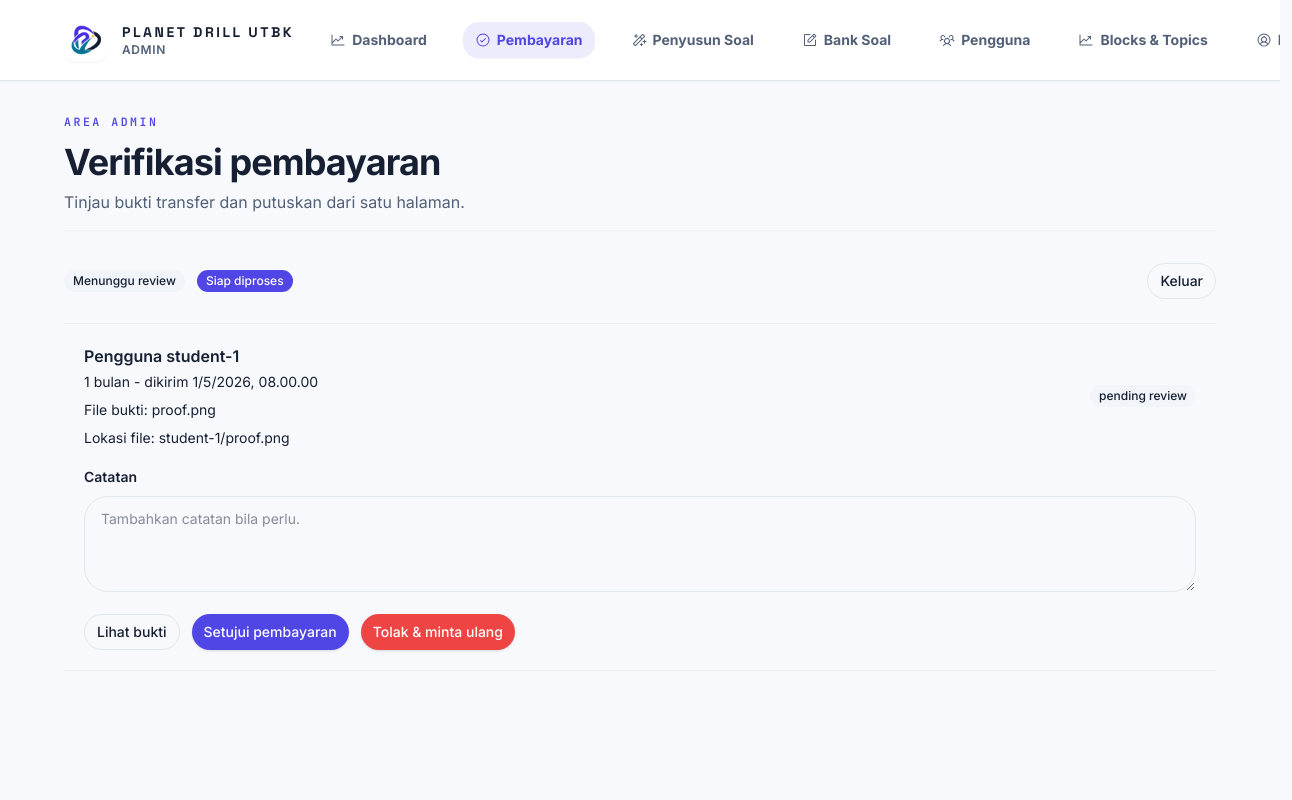
Test case: Payments page › keeps the loaded queue visible when opening a proof preview fails
Click the button "Lihat bukti" at [132, 632], box [84,614,180,650]
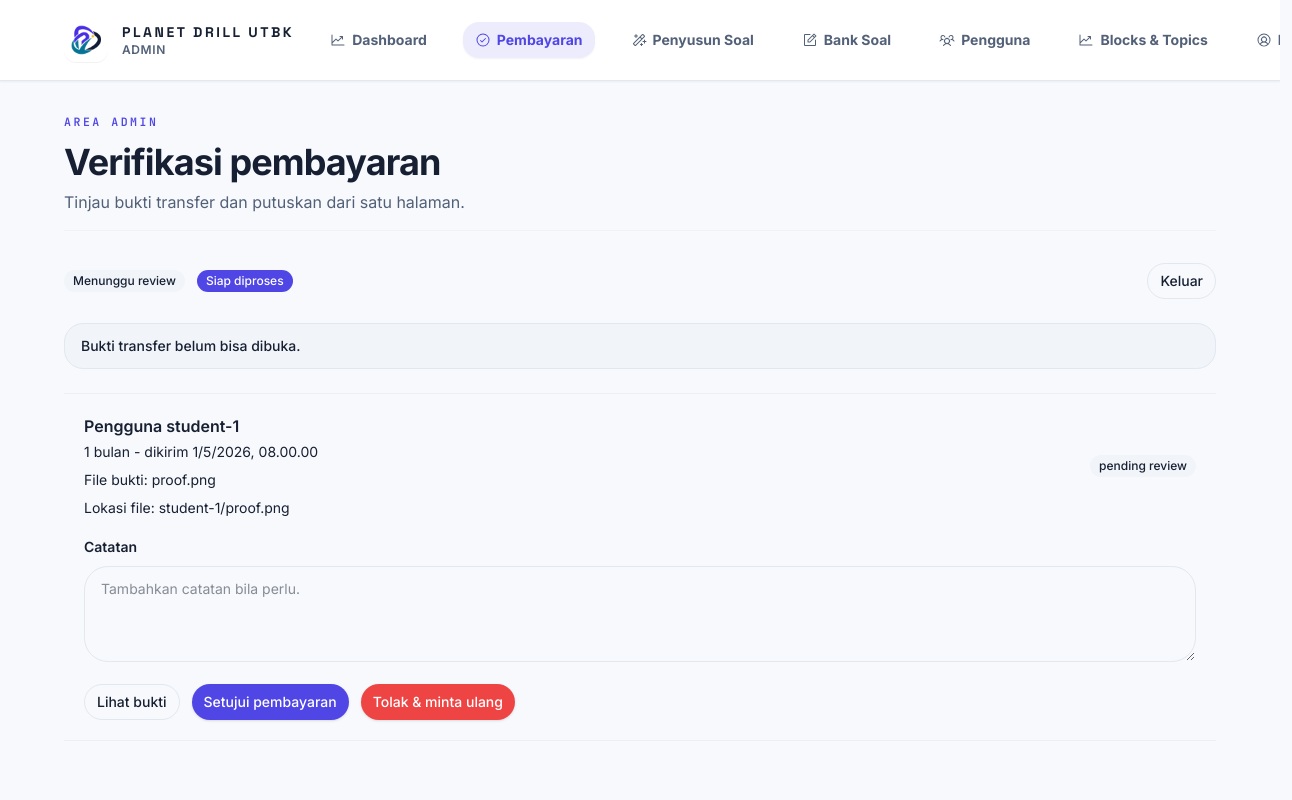
expect the text "Pengguna student-1" is shown: met, box [84,416,239,436]
expect the text "Bukti transfer belum bisa dibuka." is shown: met, box [64,323,1216,369]
